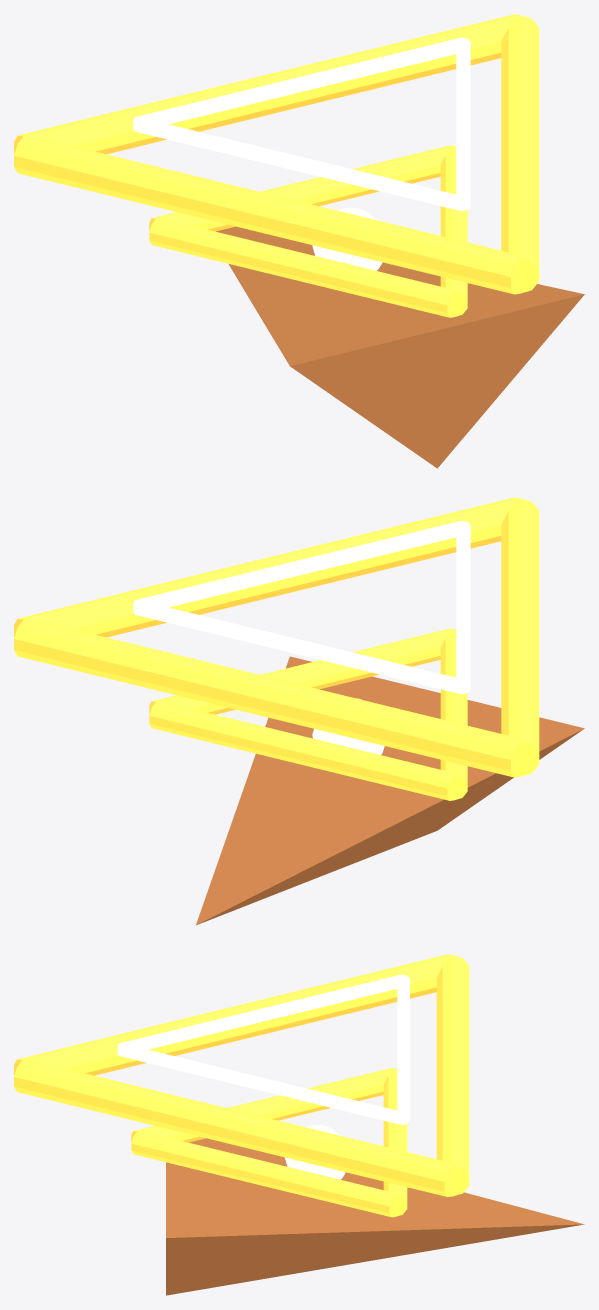
File: triad_fragment.glb
3 views of the same model, one above another, from view 1: azimuth 30°, elevation 25°; view 2: azimuth 150°, elevation 25°; view 3: azimuth 270°, elevation 25° (orthographic). The views are drawn at different scales.
Visible parts, largest first — view 1: TriadFragmentDarkShard, TriadReadabilityTriangleRoute2, TriadReadabilityTriangleRoute1, TriadReadabilityTriangleRoute0, TriadFragmentEdge2, TriadReadabilityWhiteRoute2, TriadReadabilityWhiteRoute1, TriadFragmentEdge1, TriadReadabilityWhiteRoute0, TriadFragmentEdge0, TriadFragmentWhiteCore; view 2: TriadFragmentDarkShard, TriadReadabilityTriangleRoute1, TriadReadabilityTriangleRoute0, TriadReadabilityTriangleRoute2, TriadFragmentEdge1, TriadReadabilityWhiteRoute1, TriadReadabilityWhiteRoute0, TriadFragmentEdge0, TriadReadabilityWhiteRoute2, TriadFragmentEdge2, TriadFragmentWhiteCore; view 3: TriadFragmentDarkShard, TriadReadabilityTriangleRoute0, TriadReadabilityTriangleRoute2, TriadReadabilityTriangleRoute1, TriadFragmentEdge0, TriadReadabilityWhiteRoute0, TriadReadabilityWhiteRoute2, TriadFragmentEdge2, TriadReadabilityWhiteRoute1, TriadFragmentEdge1, TriadFragmentWhiteCore.
Part boxes in pixels (left/top/right/bottom): TriadFragmentDarkShard: left=216, top=226, right=584, bottom=468; TriadReadabilityTriangleRoute2: left=14, top=136, right=520, bottom=294; TriadReadabilityTriangleRoute1: left=14, top=14, right=519, bottom=154; TriadReadabilityTriangleRoute0: left=501, top=15, right=539, bottom=293; TriadFragmentEdge2: left=149, top=219, right=453, bottom=317; TriadReadabilityWhiteRoute2: left=133, top=117, right=463, bottom=211; TriadReadabilityWhiteRoute1: left=133, top=37, right=462, bottom=124; TriadFragmentEdge1: left=149, top=145, right=453, bottom=231; TriadReadabilityWhiteRoute0: left=456, top=38, right=470, bottom=210; TriadFragmentEdge0: left=440, top=146, right=467, bottom=316; TriadFragmentWhiteCore: left=312, top=207, right=382, bottom=270; TriadFragmentDarkShard: left=196, top=656, right=584, bottom=925; TriadReadabilityTriangleRoute1: left=14, top=619, right=520, bottom=777; TriadReadabilityTriangleRoute0: left=14, top=497, right=519, bottom=637; TriadReadabilityTriangleRoute2: left=501, top=498, right=539, bottom=776; TriadFragmentEdge1: left=149, top=702, right=453, bottom=800; TriadReadabilityWhiteRoute1: left=133, top=600, right=463, bottom=694; TriadReadabilityWhiteRoute0: left=133, top=520, right=462, bottom=607; TriadFragmentEdge0: left=149, top=628, right=453, bottom=714; TriadReadabilityWhiteRoute2: left=456, top=521, right=470, bottom=693; TriadFragmentEdge2: left=440, top=629, right=467, bottom=800; TriadFragmentWhiteCore: left=312, top=698, right=384, bottom=754; TriadFragmentDarkShard: left=166, top=1138, right=584, bottom=1295; TriadReadabilityTriangleRoute0: left=14, top=1060, right=452, bottom=1196; TriadReadabilityTriangleRoute2: left=14, top=954, right=452, bottom=1075; TriadReadabilityTriangleRoute1: left=436, top=955, right=469, bottom=1196; TriadFragmentEdge0: left=131, top=1131, right=395, bottom=1217; TriadReadabilityWhiteRoute0: left=117, top=1044, right=403, bottom=1124; TriadReadabilityWhiteRoute2: left=117, top=974, right=403, bottom=1049; TriadFragmentEdge2: left=131, top=1068, right=394, bottom=1142; TriadReadabilityWhiteRoute1: left=397, top=975, right=409, bottom=1124; TriadFragmentEdge1: left=383, top=1068, right=407, bottom=1216; TriadFragmentWhiteCore: left=284, top=1125, right=345, bottom=1179.
Bounding box in the file's own units: 1.51 × 0.7995 × 1.64.
